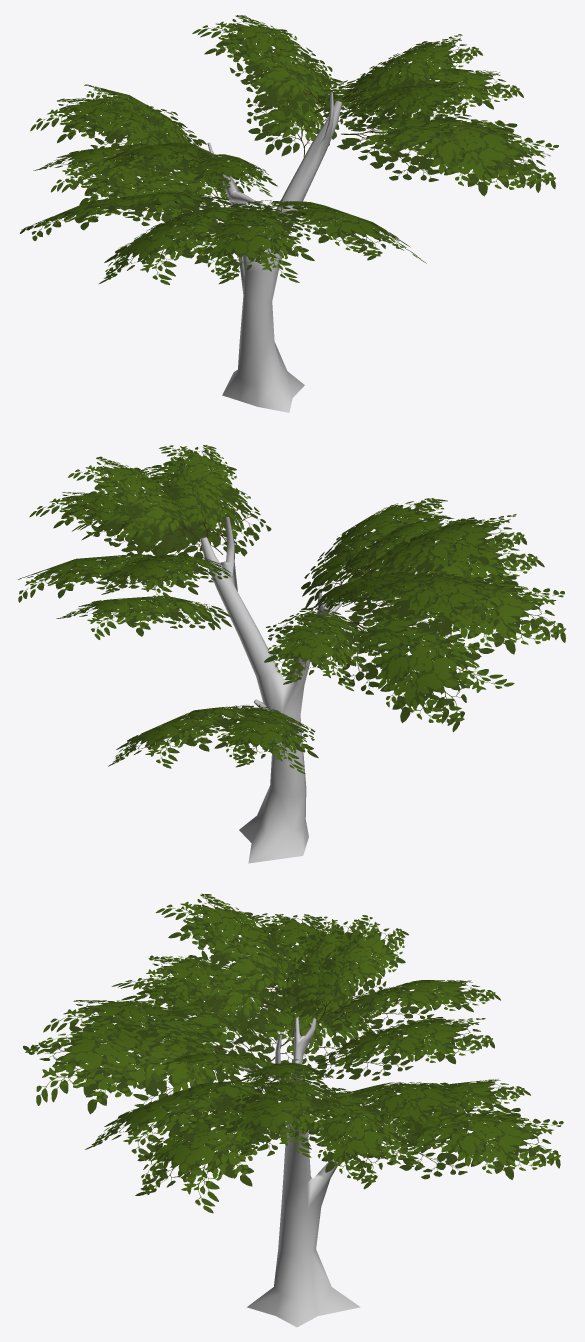
The model's file is Tree_3.fbx.
The picture shows the model from 3 angles, top to bottom: view 1: azimuth 30°, elevation 25°; view 2: azimuth 150°, elevation 25°; view 3: azimuth 270°, elevation 25°; orthographic projection. The views are drawn at different scales.
Visible parts, largest first — view 1: polySurface71; view 2: polySurface71; view 3: polySurface71.
Part boxes in pixels (left/top/right/bottom): polySurface71: left=20, top=15, right=558, bottom=412; polySurface71: left=17, top=445, right=565, bottom=863; polySurface71: left=23, top=893, right=563, bottom=1327.
Bounding box in the file's own units: 731 × 442 × 690.
